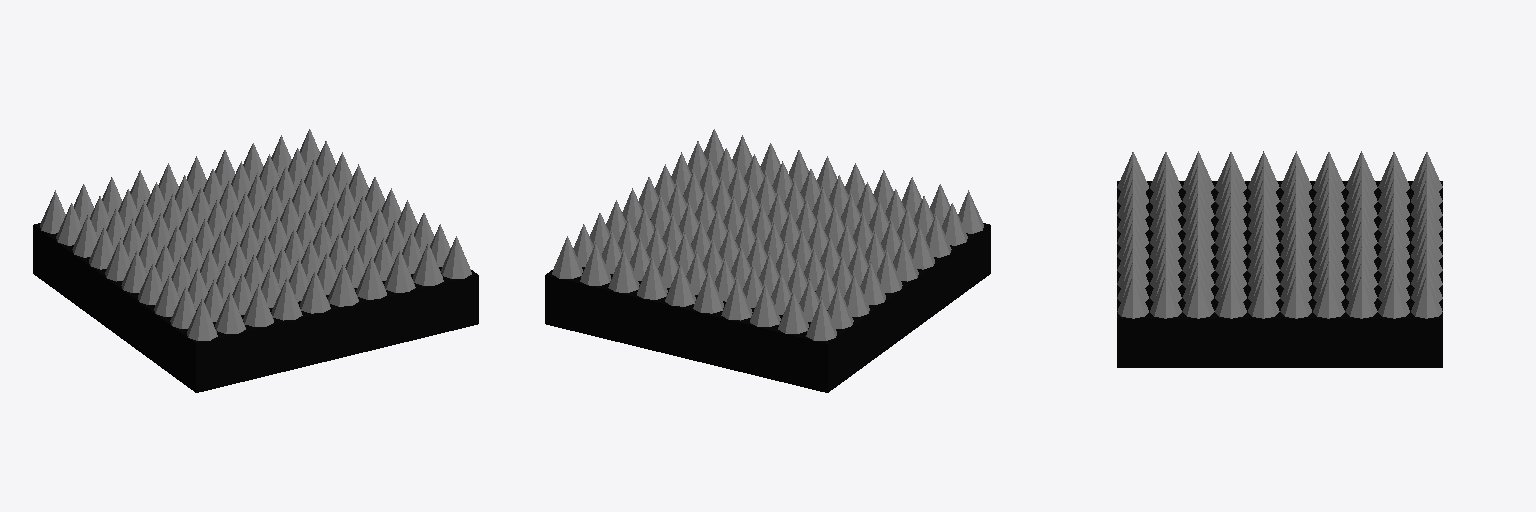
File: flippingspikeplatform.obj
3 renders of one model, left to right at view 1: azimuth 30°, elevation 25°; view 2: azimuth 150°, elevation 25°; view 3: azimuth 270°, elevation 25°, orthographic.
Visible parts, largest first — view 1: Cone, Cube; view 2: Cone, Cube; view 3: Cone, Cube.
Boxes of the visible parts, x1=… form: Cone: x1=40, y1=129, x2=471, y2=340; Cube: x1=33, y1=219, x2=478, y2=392; Cone: x1=552, y1=129, x2=983, y2=340; Cube: x1=545, y1=219, x2=990, y2=392; Cone: x1=1117, y1=151, x2=1442, y2=318; Cube: x1=1117, y1=181, x2=1442, y2=367.
Size of the model in its own units: 6 by 1.75 by 6.